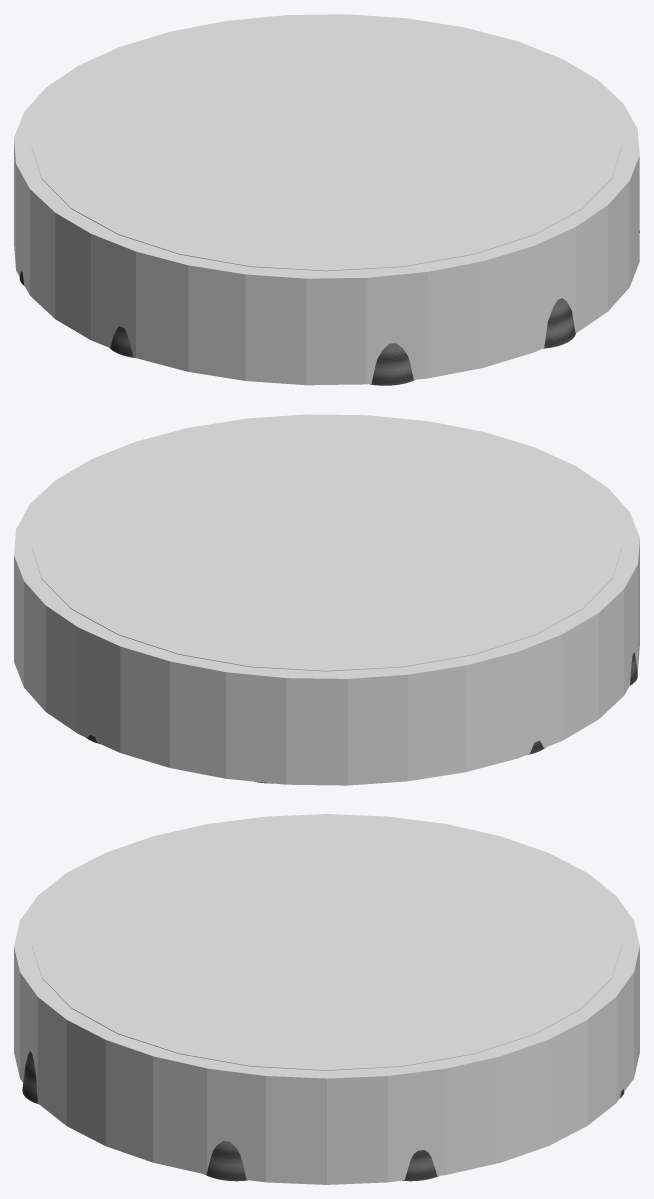
The model's file is BFRtopEnginesblend.fbx.
The picture shows the model from 3 angles, top to bottom: view 1: azimuth 30°, elevation 25°; view 2: azimuth 150°, elevation 25°; view 3: azimuth 270°, elevation 25°; orthographic projection.
Visible parts, largest first — view 1: Cylinder.002, Cylinder, Cone.016; view 2: Cylinder.002, Cylinder; view 3: Cylinder.002, Cylinder, Cone.016.
Part boxes in pixels (left/top/right/bottom): Cylinder.002: left=31, top=21, right=622, bottom=271; Cylinder: left=14, top=14, right=639, bottom=385; Cone.016: left=19, top=230, right=639, bottom=385; Cylinder.002: left=31, top=421, right=622, bottom=671; Cylinder: left=14, top=414, right=639, bottom=785; Cylinder.002: left=32, top=821, right=621, bottom=1070; Cylinder: left=14, top=814, right=639, bottom=1184; Cone.016: left=22, top=1051, right=624, bottom=1181.
Bounding box in the file's own units: 720 × 137 × 720.
